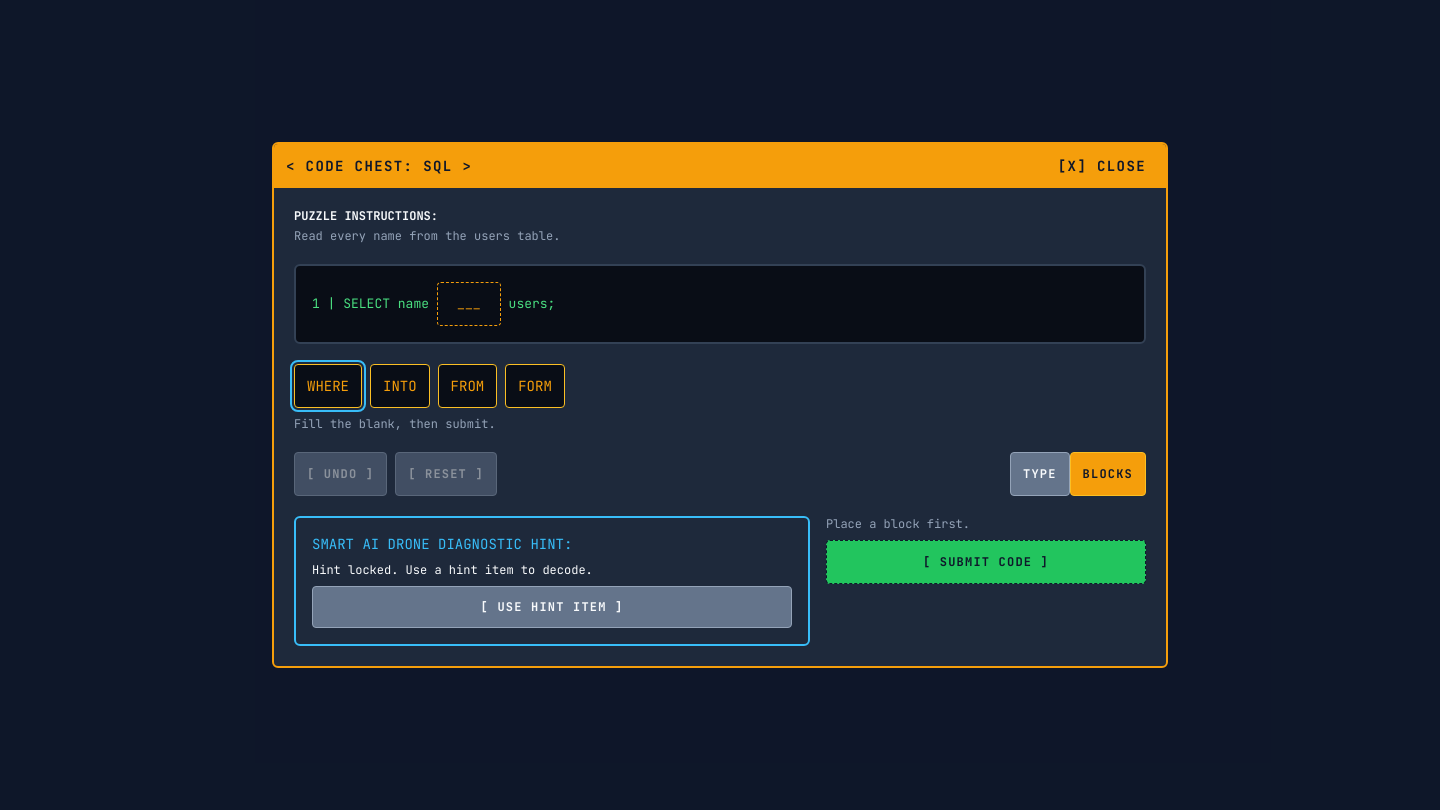
it: ChallengeTerminal: Blocks mode, Undo and Reset › the live line in Blocks mode updates at once, and an empty slot reads `⚠ Place a block first.` after an edit
Check: the text with test id "live-check" reads "Fill the blank, then submit.", box [294, 416, 496, 432]
Click the button "WHERE" at (328, 386), box [294, 364, 362, 408]
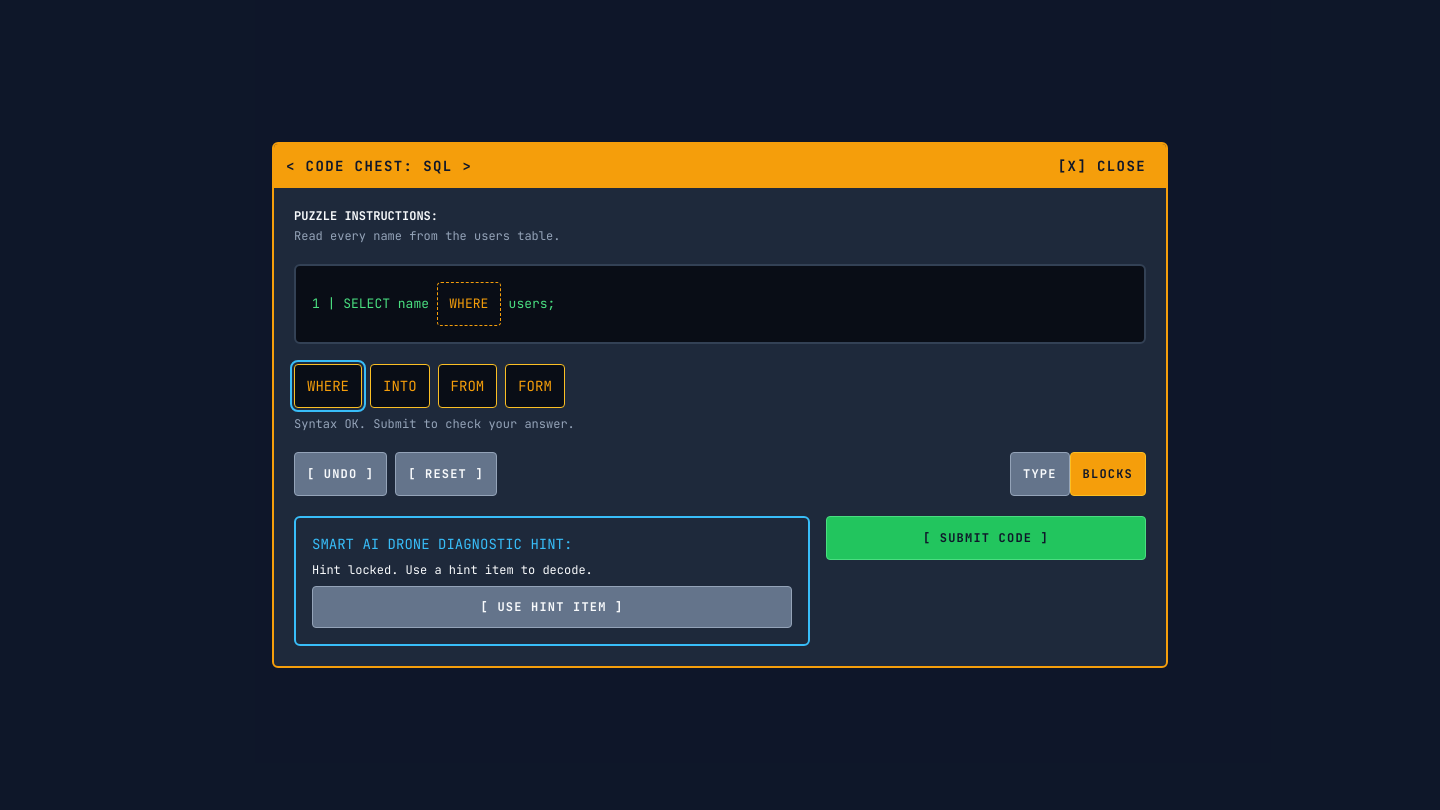
Check: the text with test id "live-check" reads "Syntax OK. Submit to check your answer.", box [294, 416, 575, 432]
Click the button with test id "block-slot" at (469, 304), box [437, 282, 501, 326]
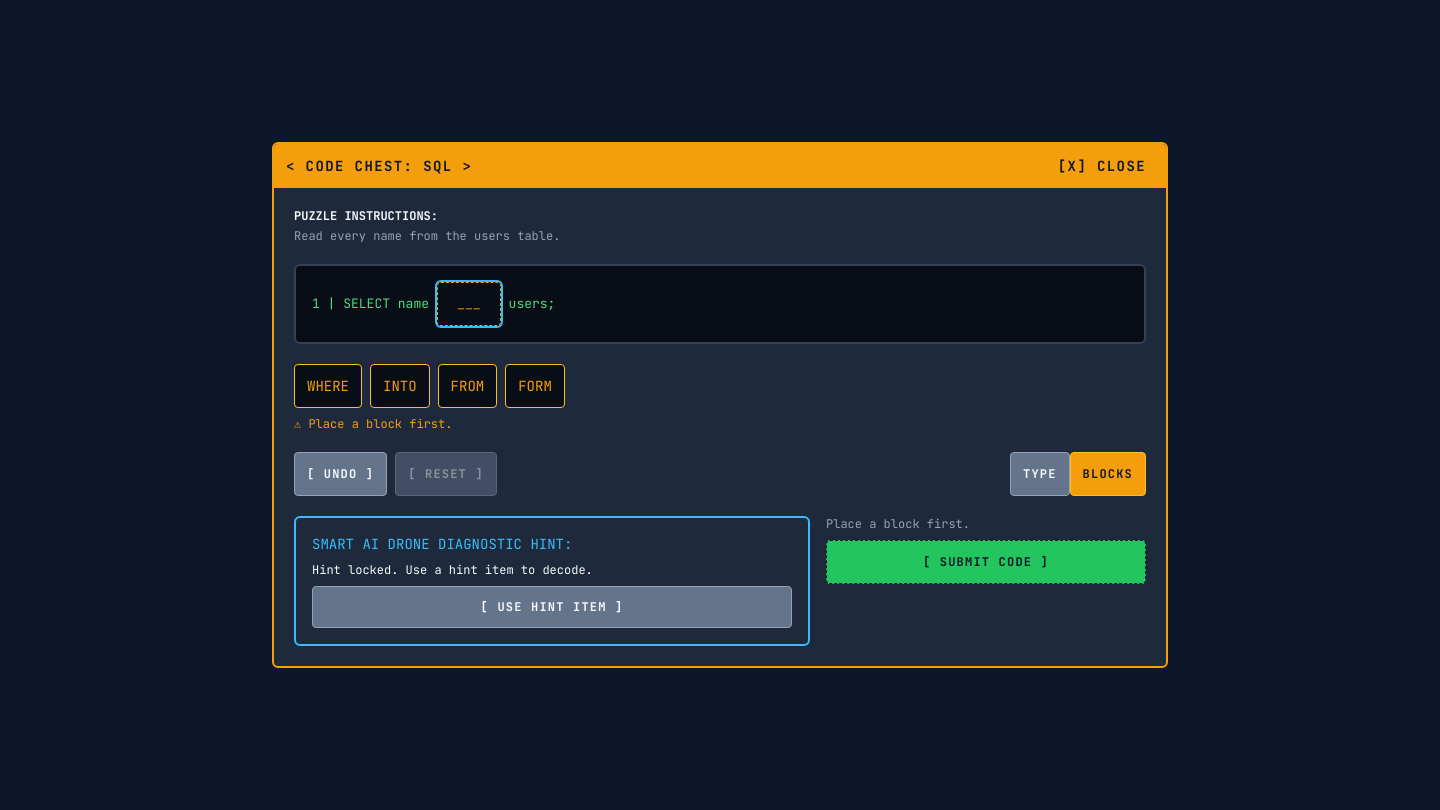
Check: the text with test id "live-check" reads "⚠ Place a block first.", box [294, 416, 452, 432]
